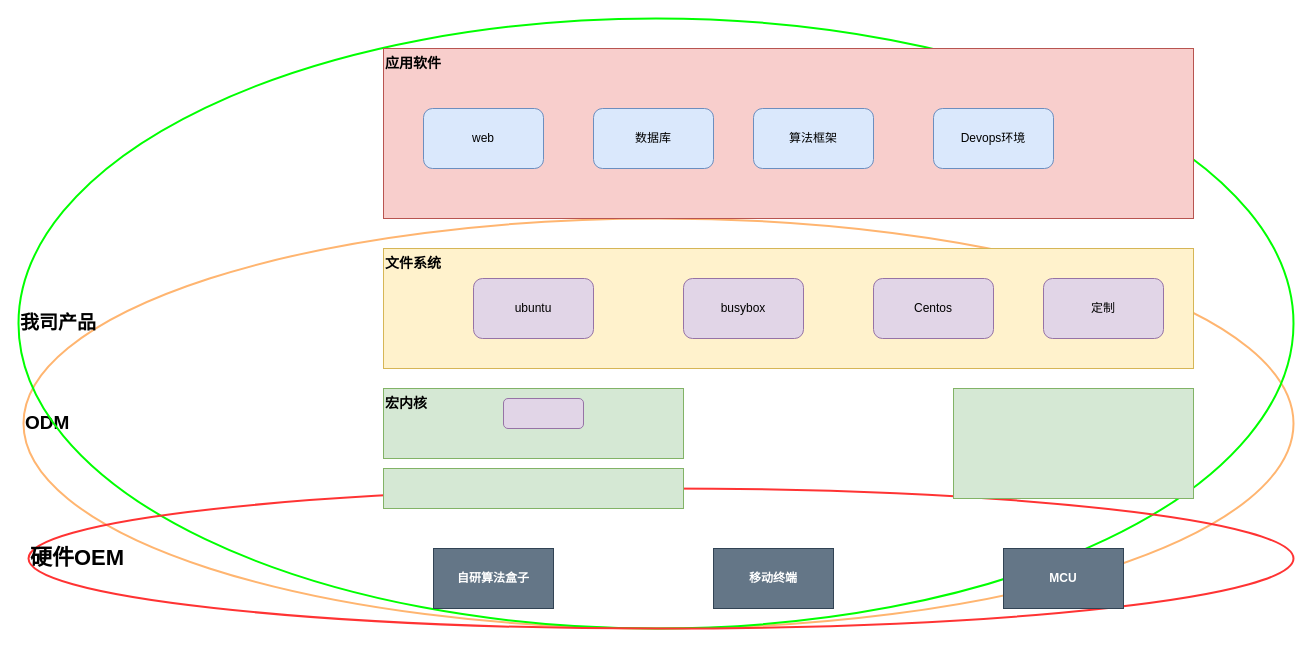
Image size: 1311x646. Some labels were removed from this diagram. The centre of each missing label's shape, as x and y in pixels:
bootloader: point (533, 488)
linux开源内核: point (543, 413)
微内核: point (1073, 443)
